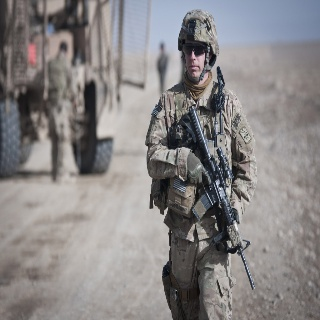rifle: (180, 106, 258, 291)
